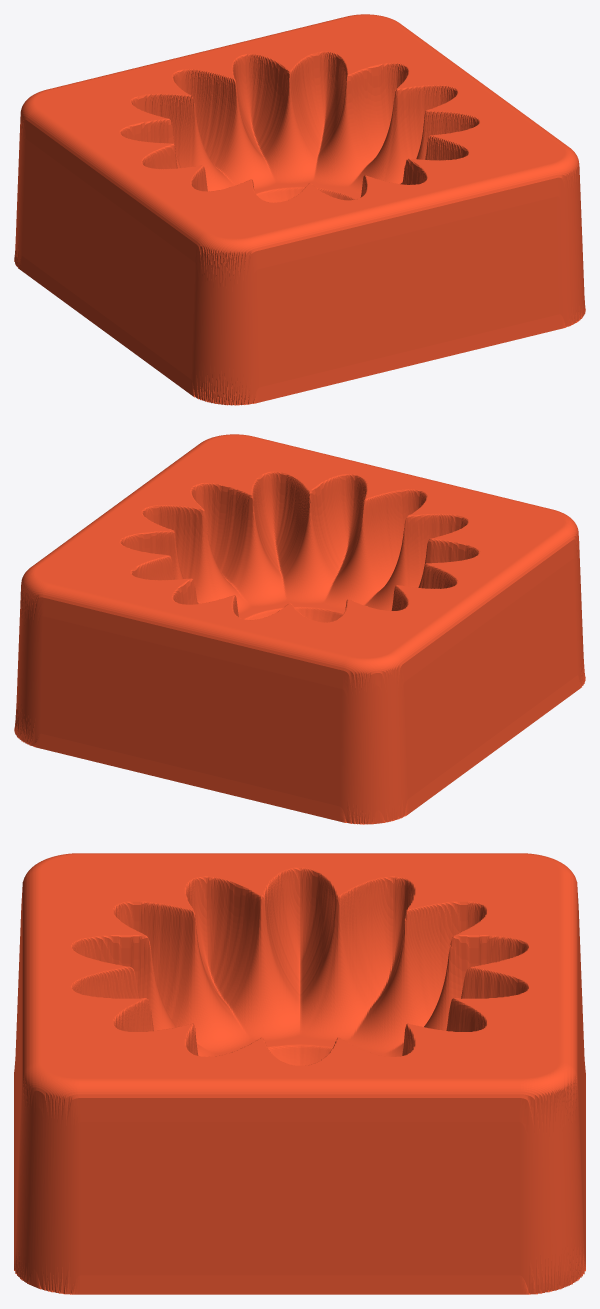
File: mold.glb
3 renders of one model, top to bottom at view 1: azimuth 30°, elevation 25°; view 2: azimuth 150°, elevation 25°; view 3: azimuth 270°, elevation 25°, orthographic. The views are drawn at different scales.
Visible parts, largest first — view 1: geometry_0; view 2: geometry_0; view 3: geometry_0.
Part boxes in pixels (<box>): geometry_0: <box>14,14,585,405</box>; geometry_0: <box>14,434,585,824</box>; geometry_0: <box>14,853,585,1294</box>.
Bounding box in the file's own units: 0.0798 × 0.031 × 0.0784.
